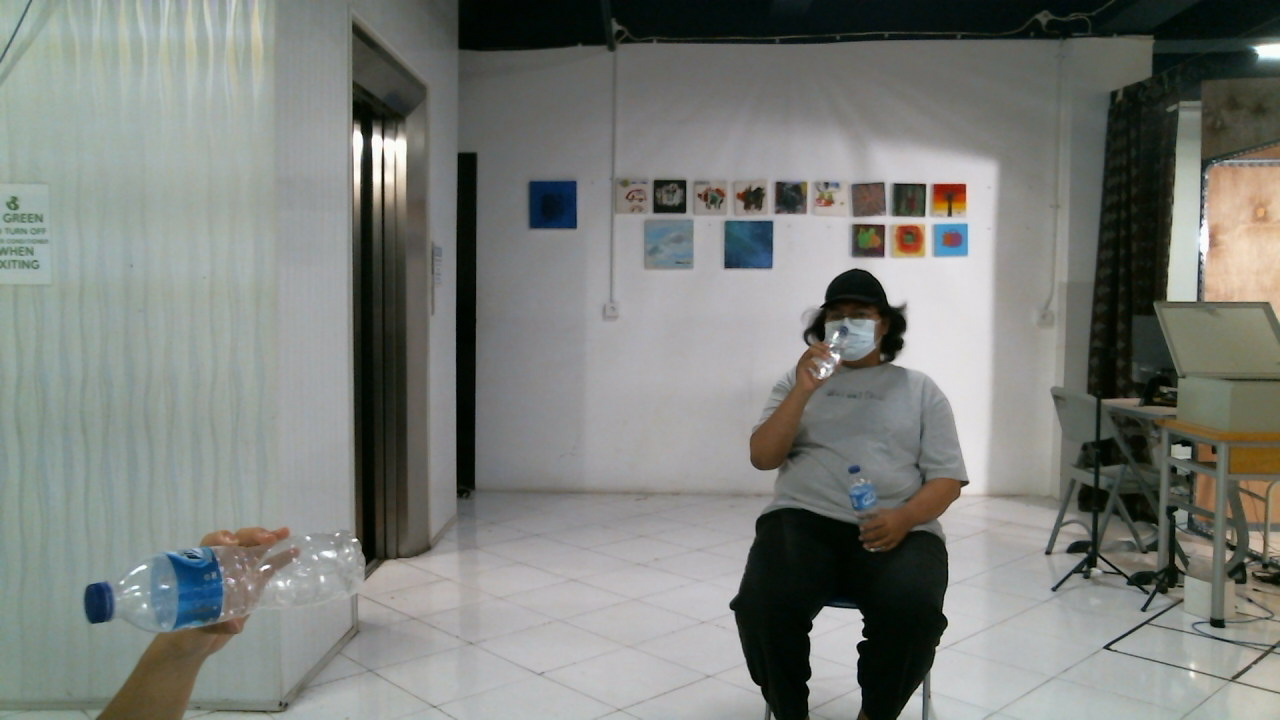Bottle: (85, 529, 367, 635)
